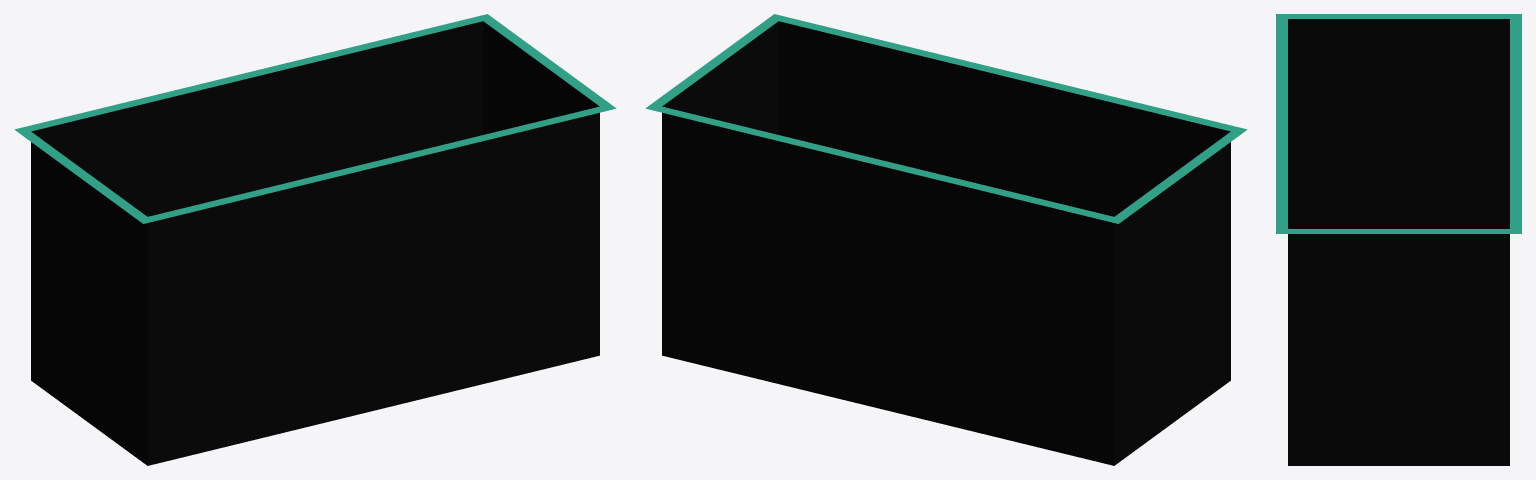
The model's file is Diorama_Box.fbx.
3 views of the same model, side by side, from view 1: azimuth 30°, elevation 25°; view 2: azimuth 150°, elevation 25°; view 3: azimuth 270°, elevation 25° (orthographic). The views are drawn at different scales.
Visible parts, largest first — view 1: Cube.002; view 2: Cube.002; view 3: Cube.002.
Part boxes in pixels (left/top/right/bottom): Cube.002: left=14, top=14, right=616, bottom=465; Cube.002: left=645, top=14, right=1247, bottom=465; Cube.002: left=1276, top=14, right=1521, bottom=465.
Bounding box in the file's own units: 618 × 311 × 292.
